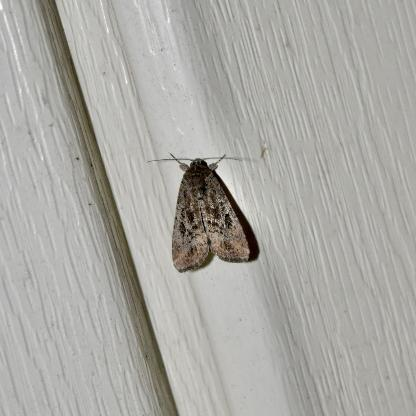Fall Armyworm Moth: (146, 151, 252, 275)
